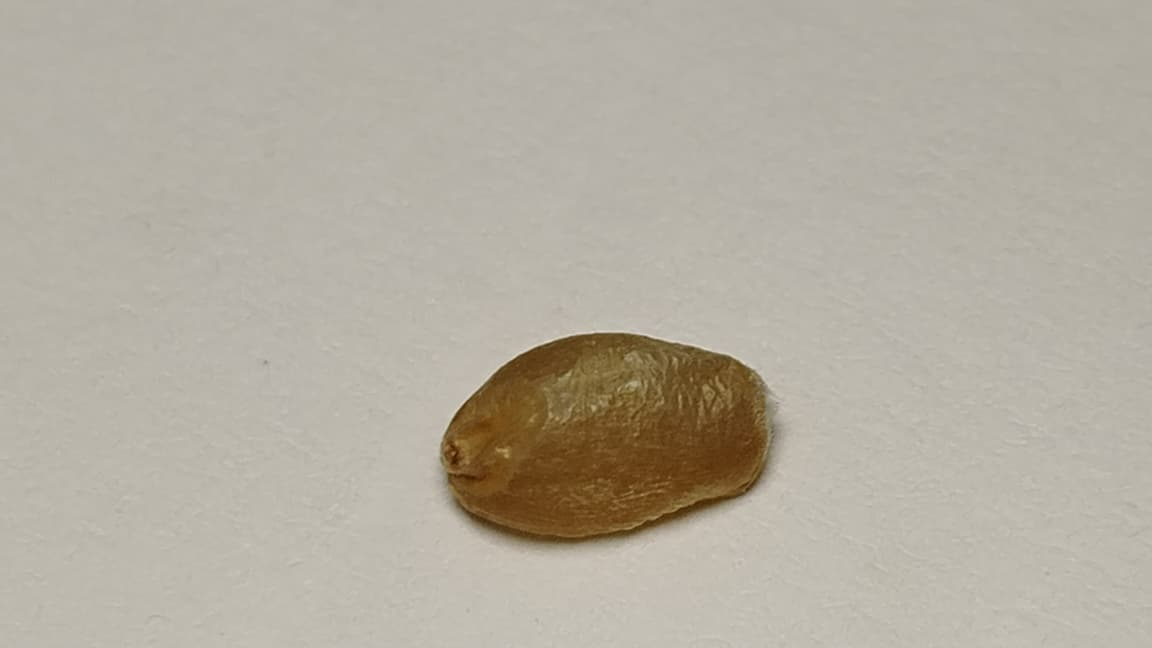healthy: (442, 333, 771, 536)
